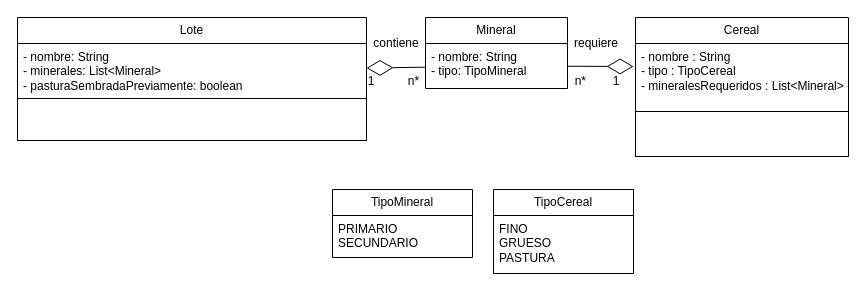
The diagram is 866 pixels wide and 294 high, and some of its shapes have lost their labels. Here are the shapes that lost their labels. From the top down, the centre of each, then its label:
At (x=191, y=119): "+ recomendarCereales(catalogo: List<Cereal>): List<Cereal>".
At (x=741, y=133): "+ esAptoPara(lote: Lote): boolean".
